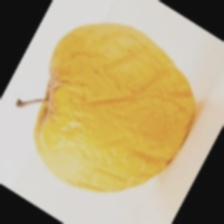apple: (37, 15, 185, 190)
